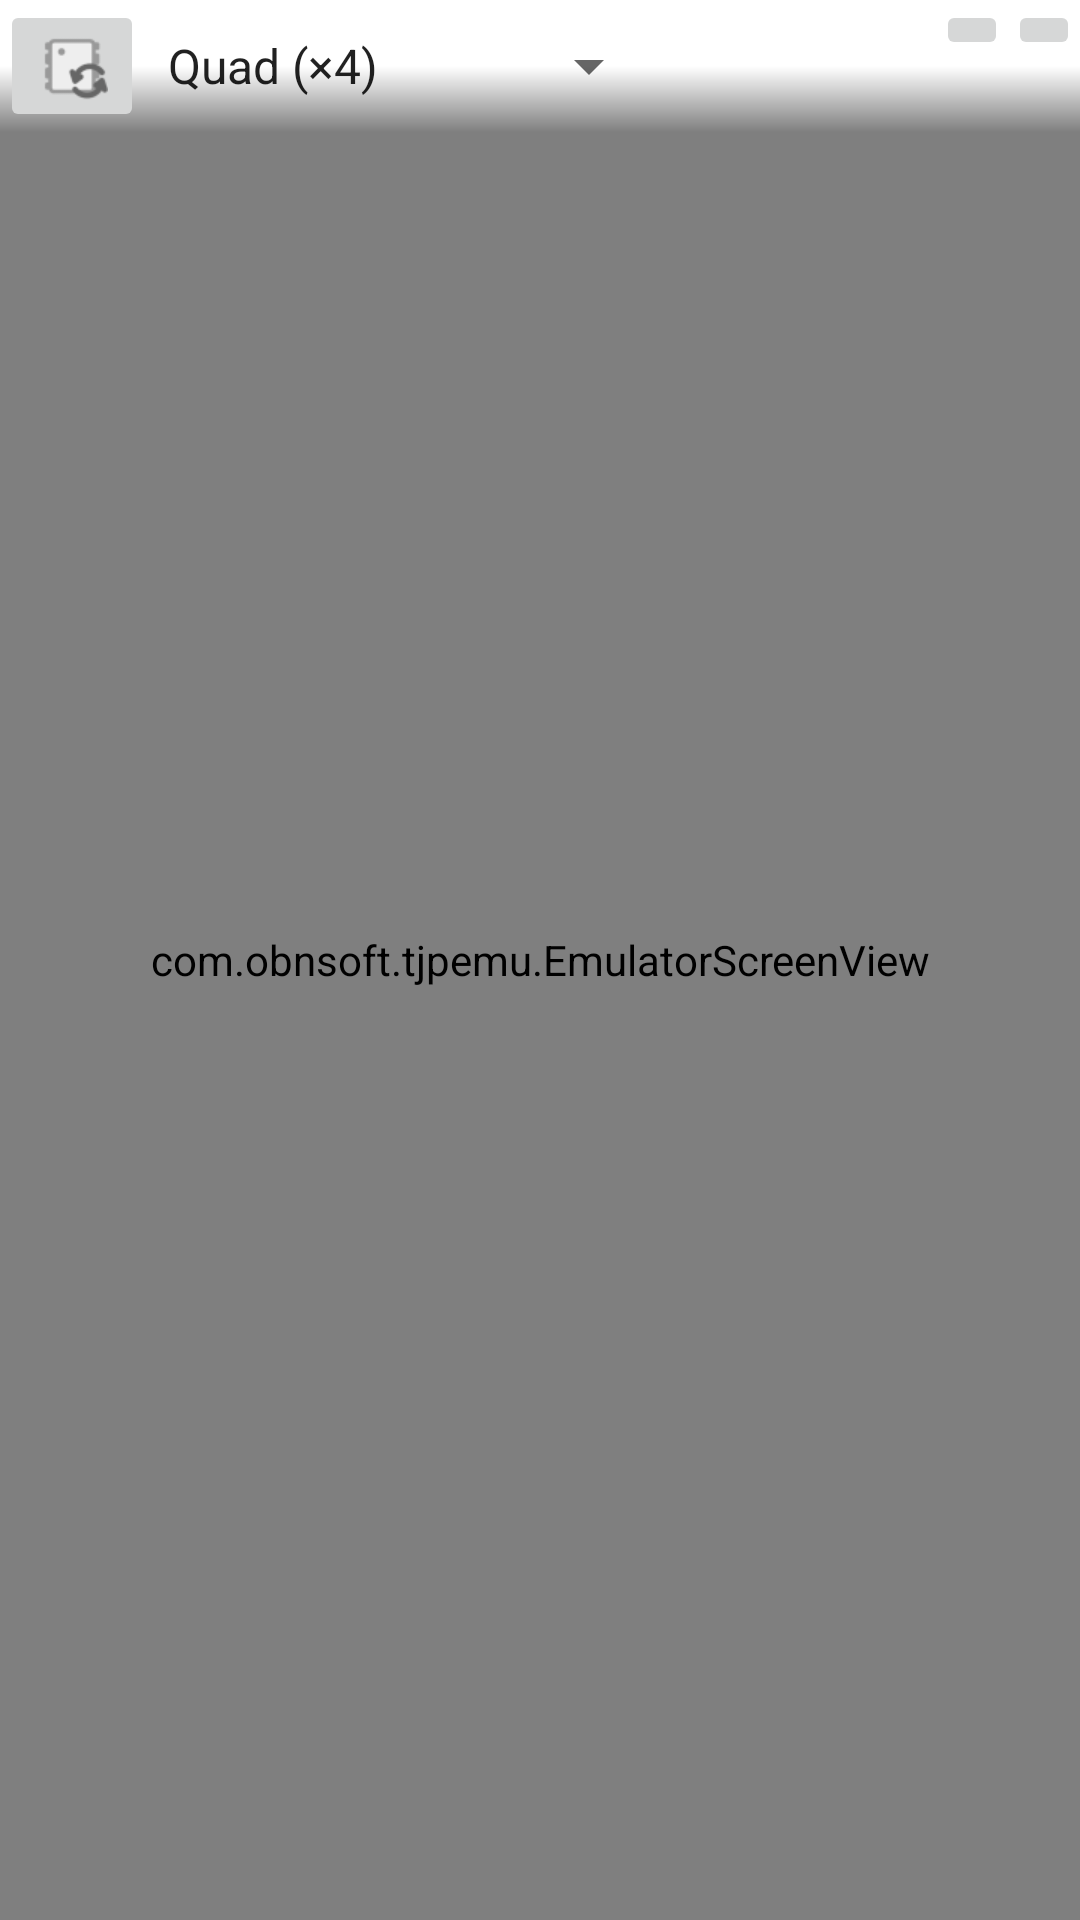

Point at icon controls on the screen. Image size 1080px x 1920px, points as (x,y).
Reset: (72,66)
